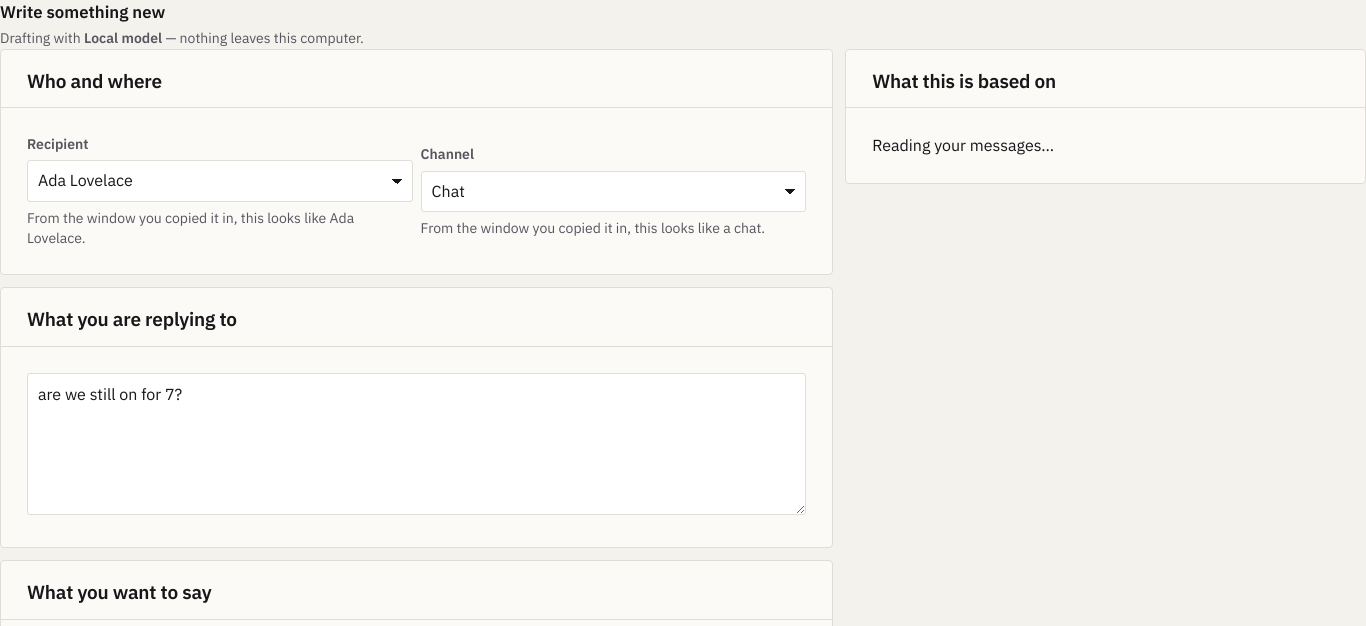
writing something new › answered from anywhere › chooses who it's from when the window's title names them
Expected: the text "From the window you copied it in, this looks like Ada Lovelace." is shown, top-left (27, 209), bottom-right (354, 247)
Select "Bob Stone" in the dropdown labelled "Recipient" at (220,181), box top-left (27, 160), bottom-right (413, 202)
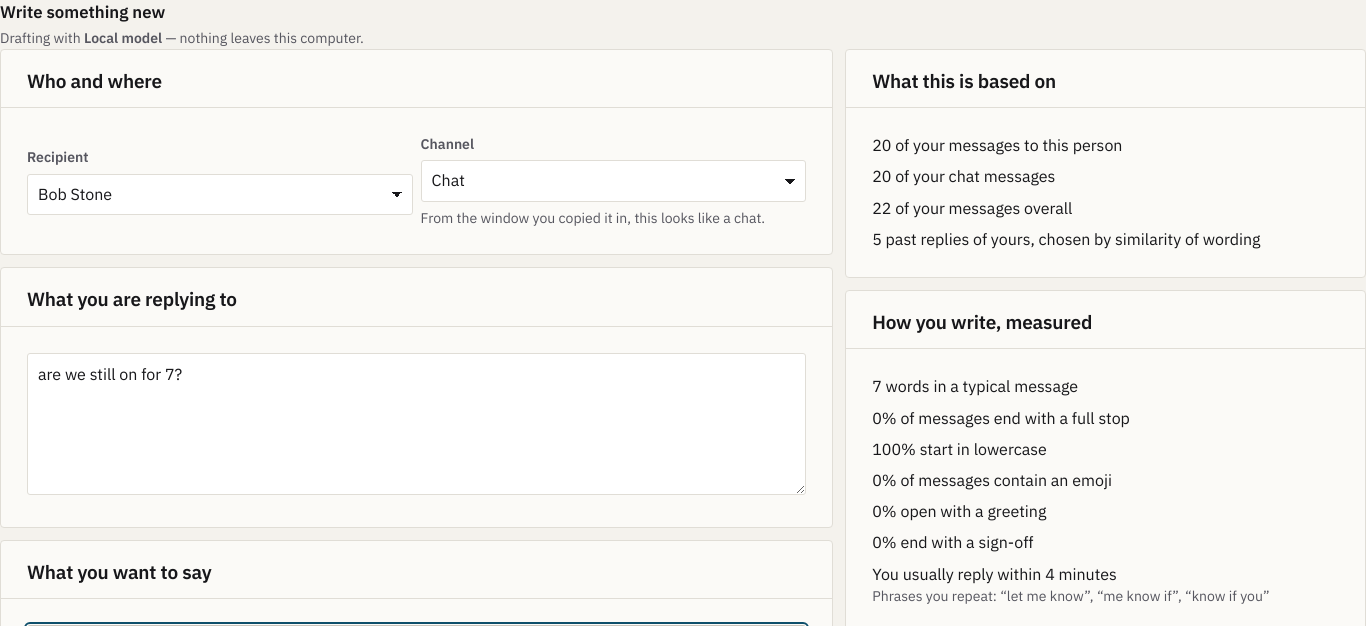
Expected: the text "this looks like Ada Lovelace" is gone
